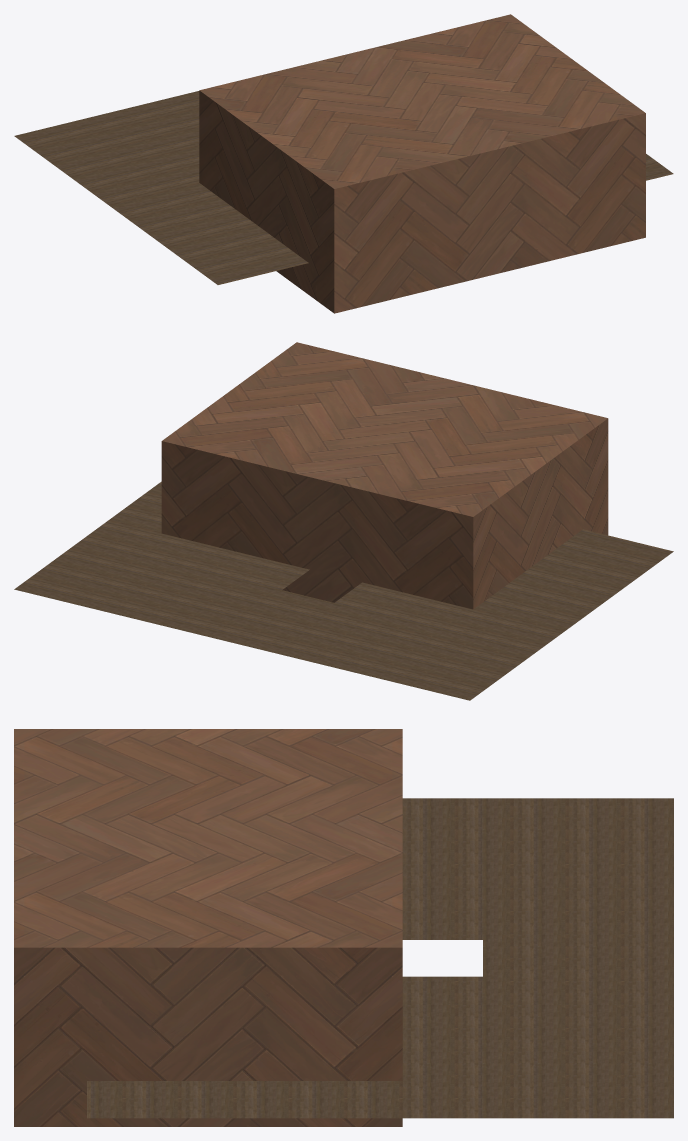
Rendered from IndoorScene_Xm_Dina.fbx.
3 renders of one model, top to bottom at view 1: azimuth 30°, elevation 25°; view 2: azimuth 150°, elevation 25°; view 3: azimuth 270°, elevation 25°, orthographic. The views are drawn at different scales.
Parts seen in each view (by area): view 1: Level_Md_Build_Fischlroom_Filling_Vo, Indoor_Xm_Build_Coffeebase_01_Vo; view 2: Level_Md_Build_Fischlroom_Filling_Vo, Indoor_Xm_Build_Coffeebase_01_Vo; view 3: Level_Md_Build_Fischlroom_Filling_Vo, Indoor_Xm_Build_Coffeebase_01_Vo.
Part boxes in pixels (box(x1,y1,x2,y2)): Level_Md_Build_Fischlroom_Filling_Vo: box(199, 14, 645, 313); Indoor_Xm_Build_Coffeebase_01_Vo: box(14, 91, 673, 284); Level_Md_Build_Fischlroom_Filling_Vo: box(161, 342, 608, 609); Indoor_Xm_Build_Coffeebase_01_Vo: box(14, 481, 673, 700); Level_Md_Build_Fischlroom_Filling_Vo: box(14, 729, 402, 1126); Indoor_Xm_Build_Coffeebase_01_Vo: box(87, 798, 673, 1118).
Size of the model in its own units: 43.67 by 11.4 by 38.04.
